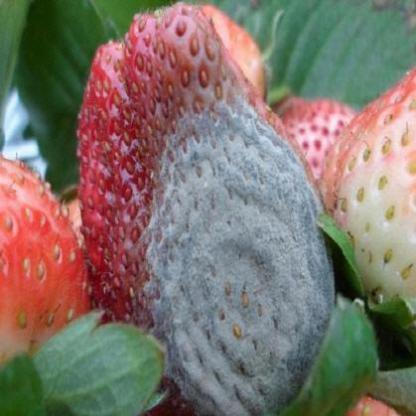Strawberry_Gray_Mold: (102, 38, 336, 416)
